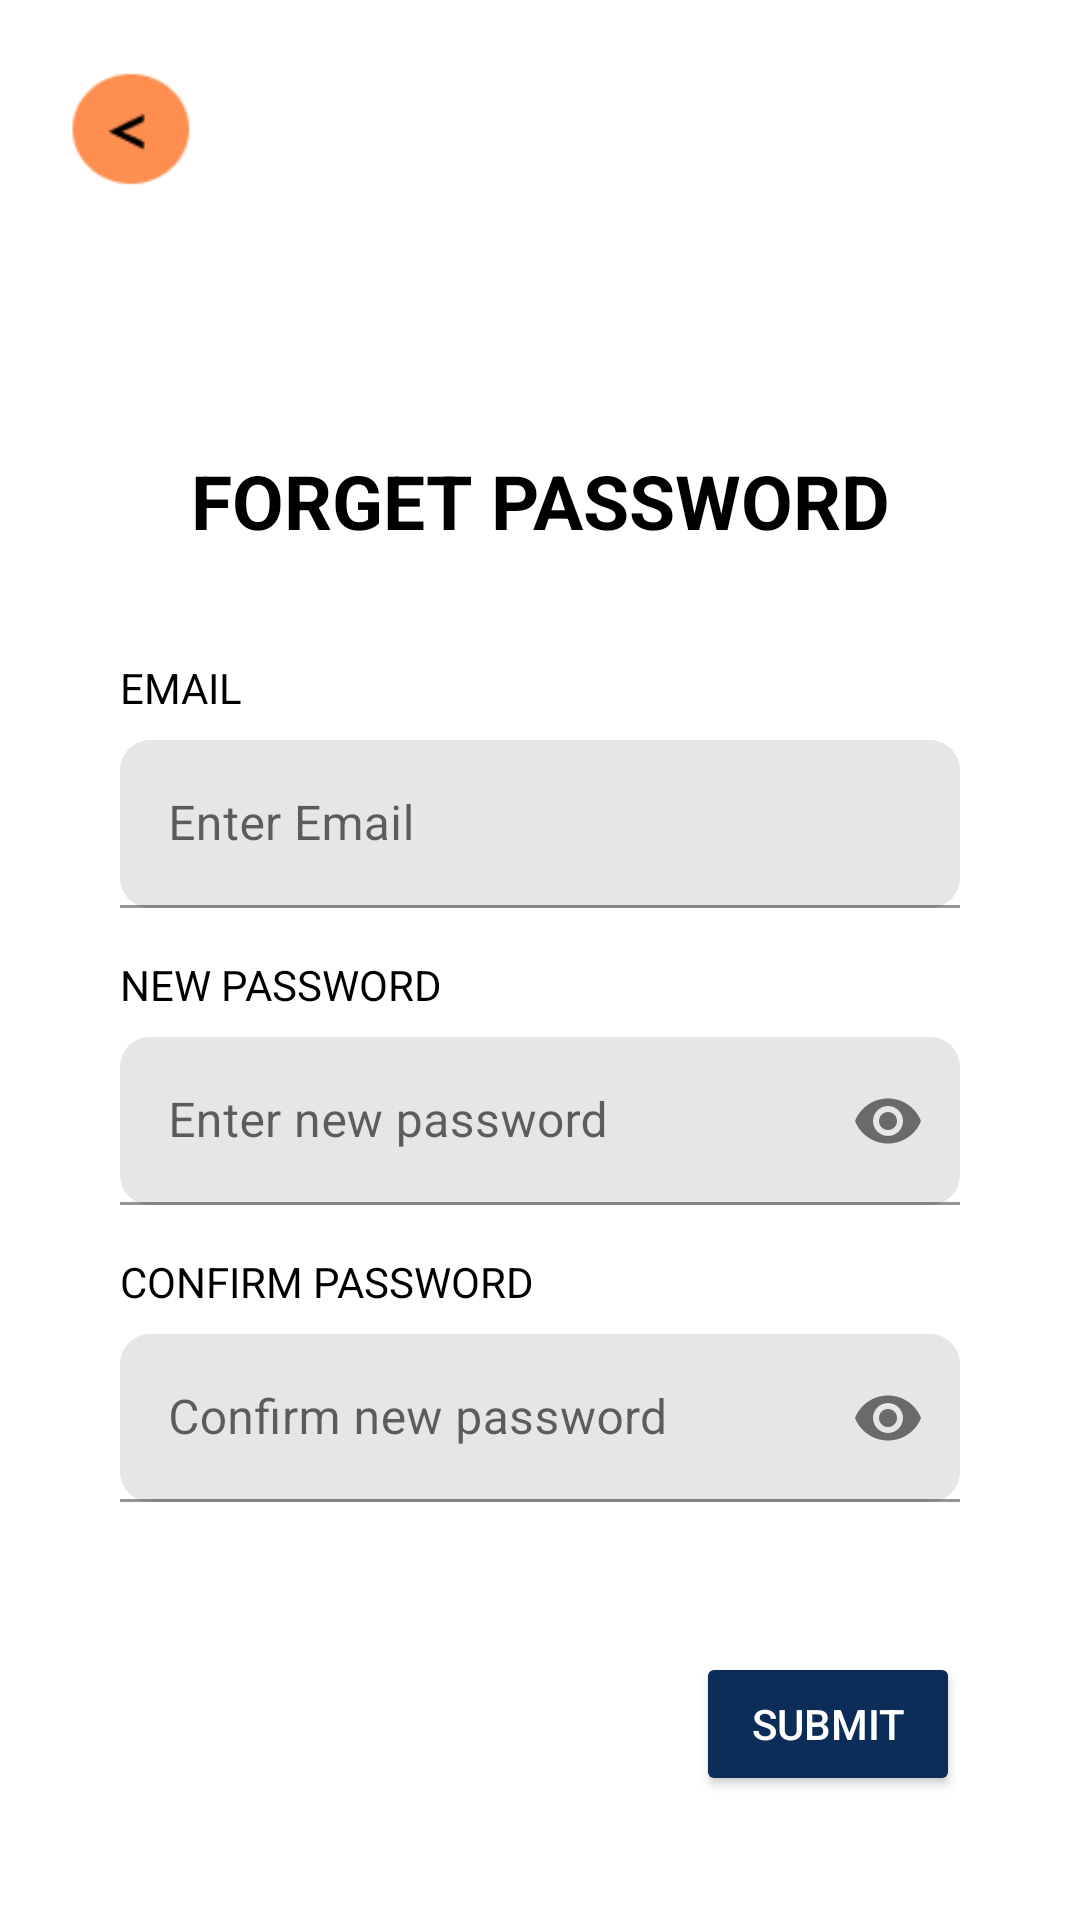

Icons on this 1080*1920 Android screen, each with its box as box(x1, y1, x2, y2):
Back: box(72, 73, 190, 185)
